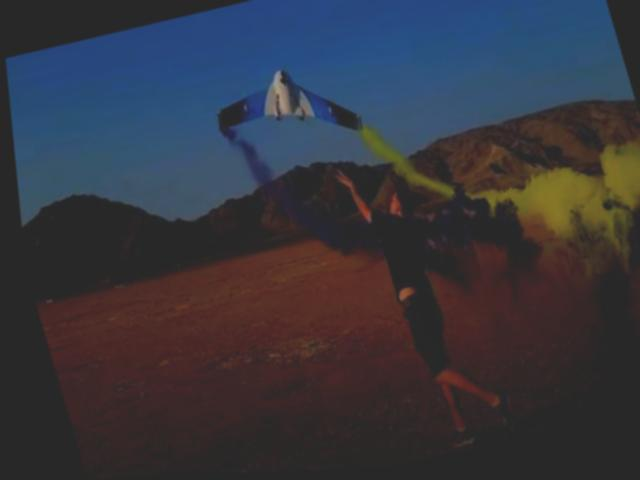iha: (194, 47, 368, 169)
